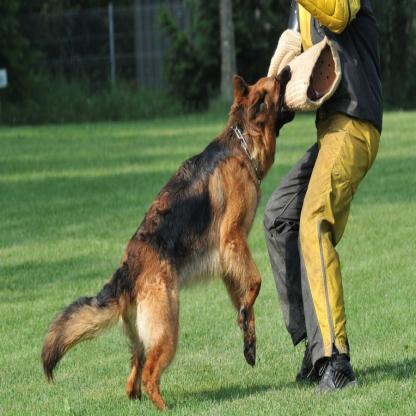dog: (35, 59, 287, 404)
